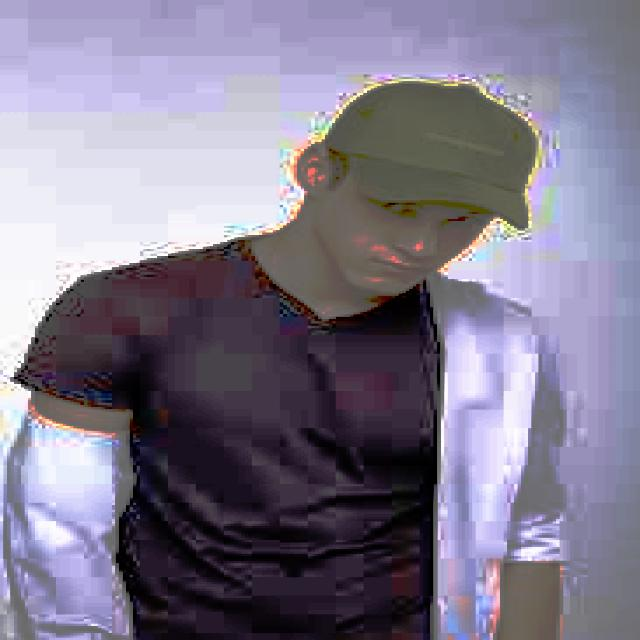TOPI: (315, 72, 535, 228)
